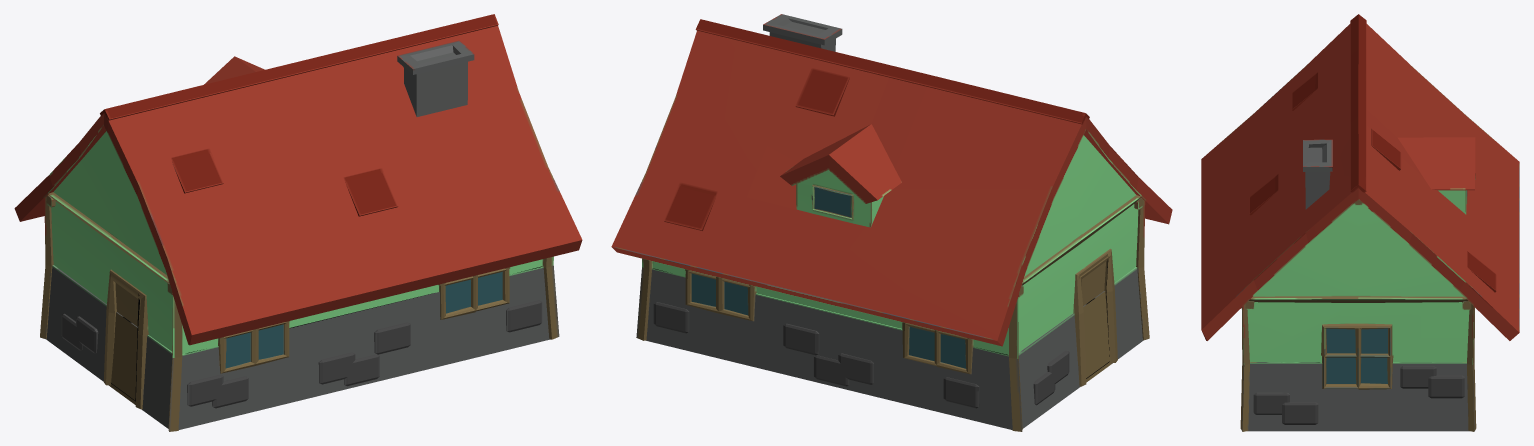
Rendered from House_2.fbx.
The picture shows the model from 3 angles, left to right: view 1: azimuth 30°, elevation 25°; view 2: azimuth 150°, elevation 25°; view 3: azimuth 270°, elevation 25°; orthographic projection. The views are drawn at different scales.
Visible parts, largest first — view 1: EvRotten.002; view 2: EvRotten.002; view 3: EvRotten.002.
Boxes of the visible parts, bbox=[...] form: EvRotten.002: bbox=[14, 14, 582, 431]; EvRotten.002: bbox=[611, 14, 1172, 431]; EvRotten.002: bbox=[1201, 14, 1519, 431].
Size of the model in its own units: 356 by 240 by 280.
1 material, 1 textured.
